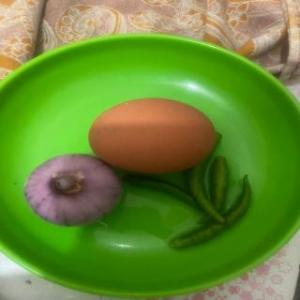egg: (88, 97, 218, 175)
